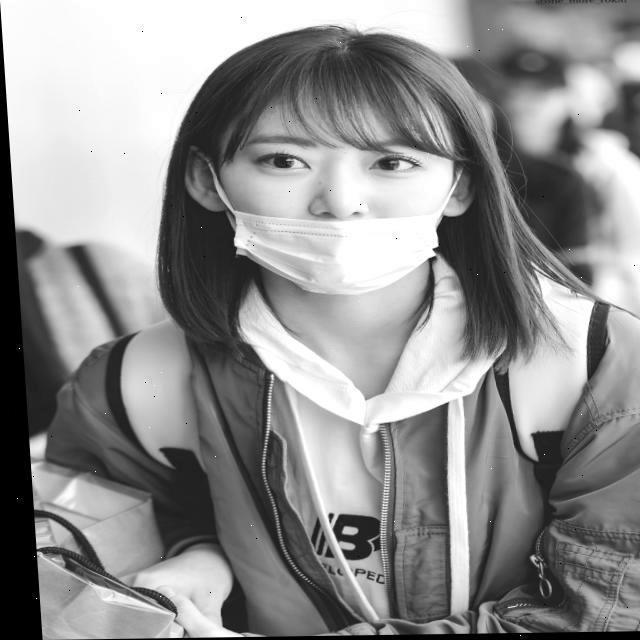no_gloves: (163, 19, 534, 162)
